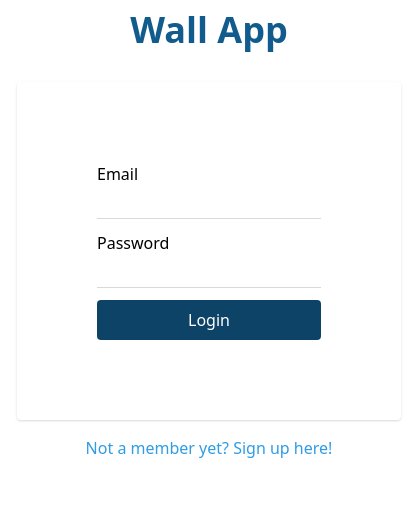
Test: Login tests › renders an error message
The width and height of the screenshot is (419, 513).
Type "some@email.com" into the field labelled "Email". click: (209, 202)
box: 97,186 -> 321,219
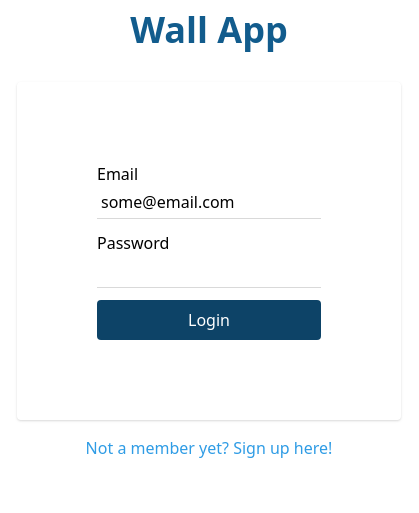
Type "SomeValue" into the password field labelled "Password". click: (209, 272)
box: 97,255 -> 321,288
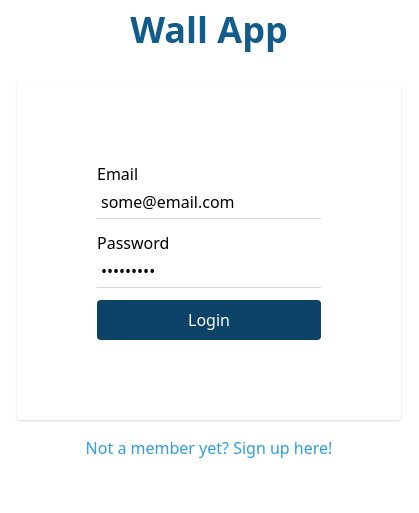
Click the button "Login". click: (209, 320)
box: 97,300 -> 321,340
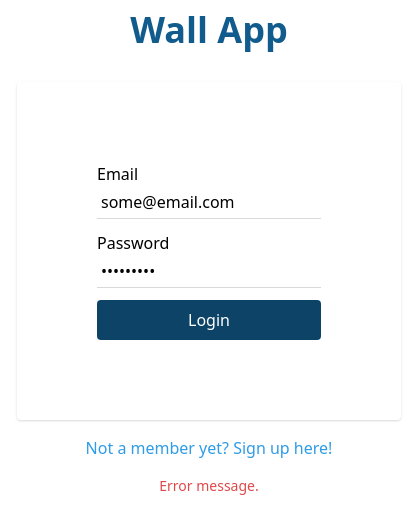
expect the text "Error message." is shown: met, box 159,476 -> 259,496
